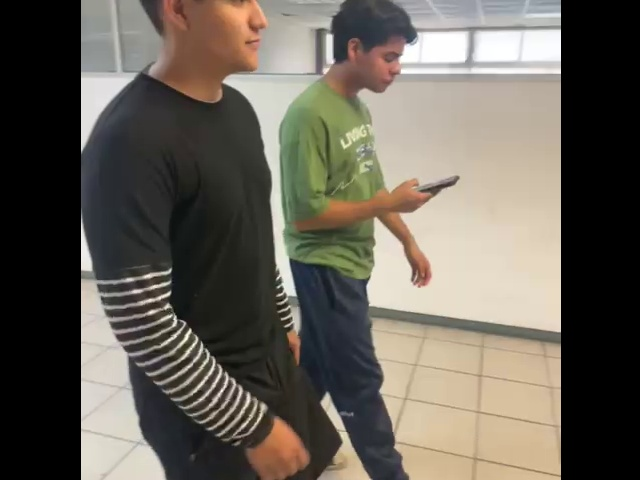mixto2: (416, 163, 465, 195)
